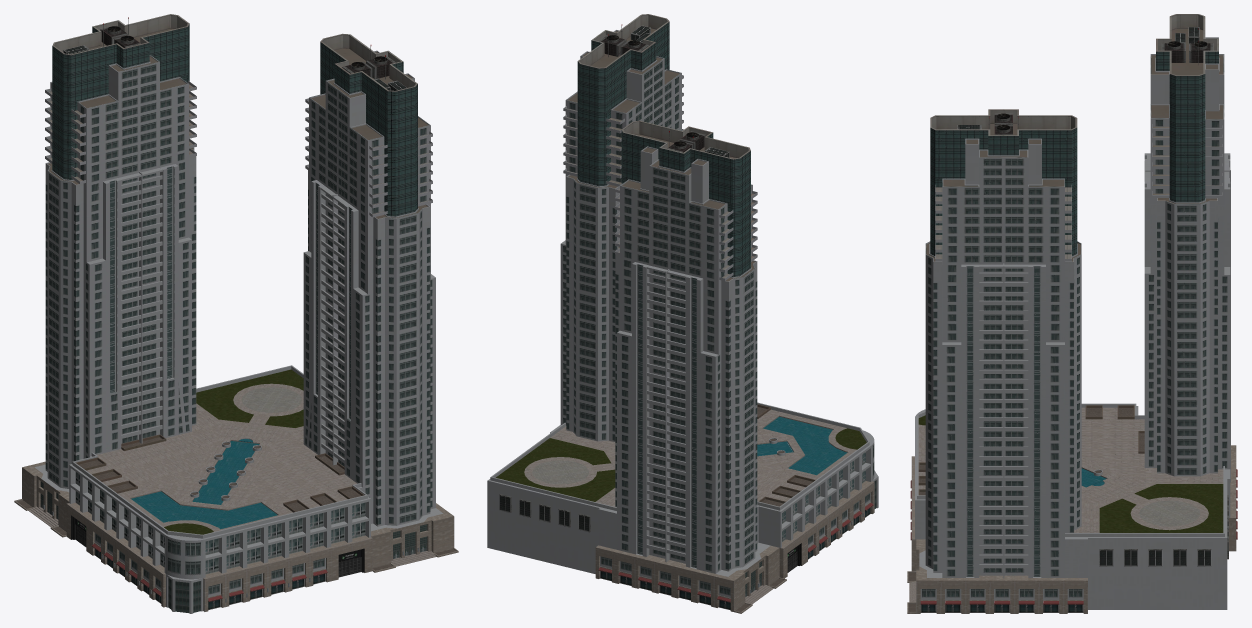
The model's file is vizcayne.glb.
3 views of the same model, side by side, from view 1: azimuth 30°, elevation 25°; view 2: azimuth 150°, elevation 25°; view 3: azimuth 270°, elevation 25° (orthographic). The views are drawn at different scales.
Parts seen in each view (by area): view 1: hivizcayne; view 2: hivizcayne; view 3: hivizcayne.
Boxes of the visible parts, left/top/right/bottom form: hivizcayne: left=14, top=14, right=458, bottom=613; hivizcayne: left=487, top=14, right=878, bottom=613; hivizcayne: left=907, top=14, right=1237, bottom=613.
Bounding box in the file's own units: 9497 × 15253 × 9497.
1 material, 1 textured.
